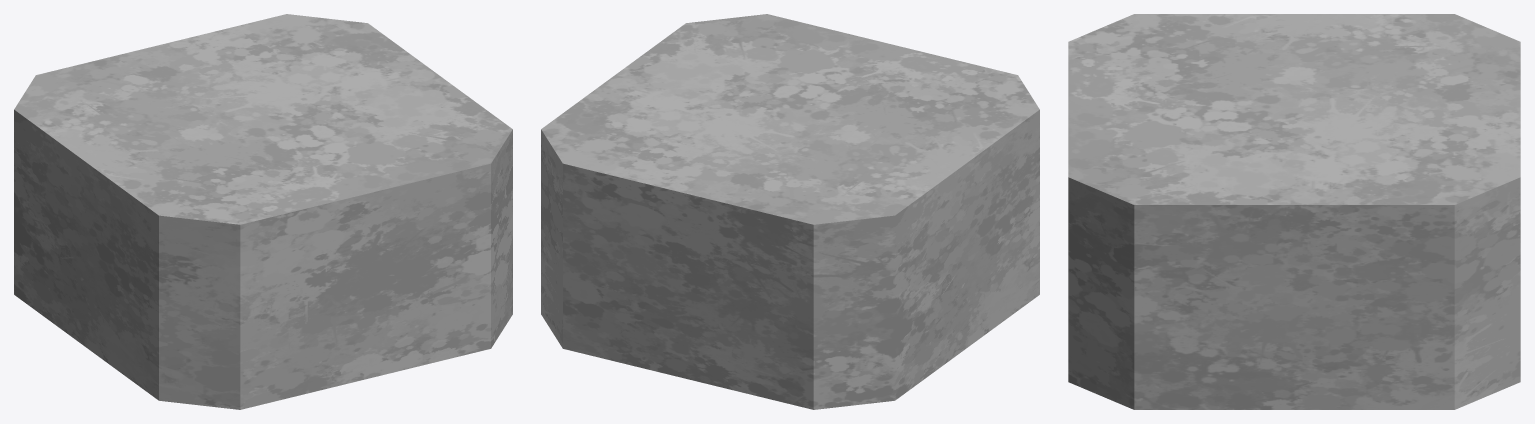
The model's file is scaffold.obj.
3 views of the same model, side by side, from view 1: azimuth 30°, elevation 25°; view 2: azimuth 150°, elevation 25°; view 3: azimuth 270°, elevation 25° (orthographic). The views are drawn at different scales.
Parts seen in each view (by area): view 1: 立方体.001; view 2: 立方体.001; view 3: 立方体.001.
Part boxes in pixels (x1,y1,x2,y2): 立方体.001: (14,14,512,409); 立方体.001: (541,14,1039,409); 立方体.001: (1068,14,1520,409).
Size of the model in its own units: 1 by 0.5 by 1.
Materials: 1 (1 with a texture image).
